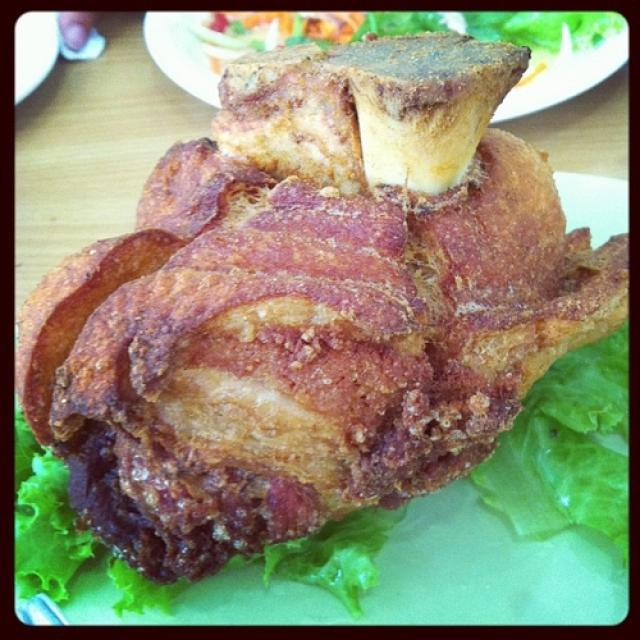猪肉菜式: (41, 34, 609, 584)
